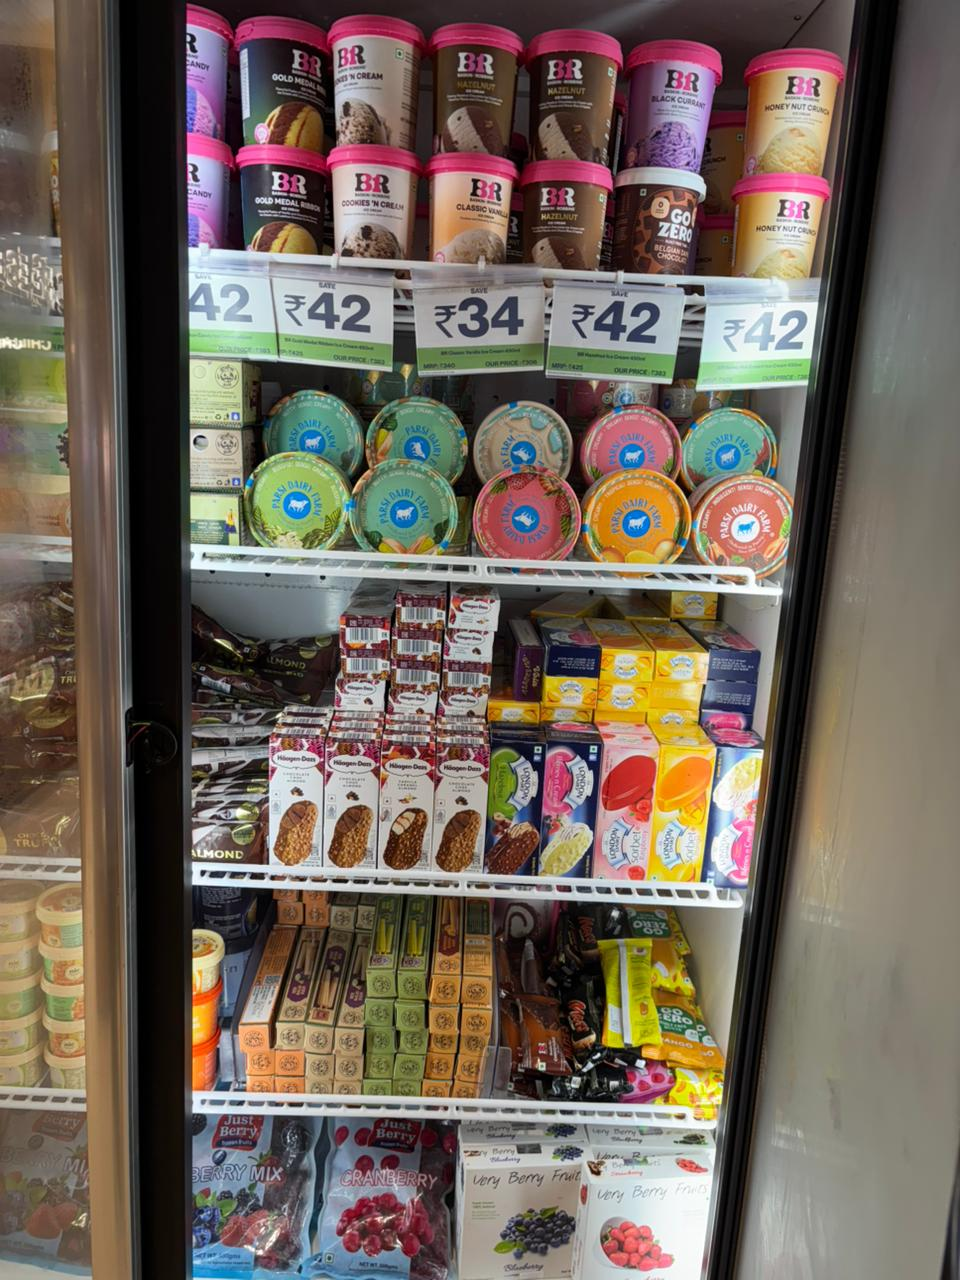Haagen-Dazs IceCream Bars: (415, 739, 499, 879), (366, 734, 442, 879), (320, 730, 385, 874), (263, 728, 327, 869), (442, 636, 499, 678), (447, 594, 504, 635), (394, 596, 450, 632), (340, 616, 392, 654), (438, 689, 501, 720), (332, 681, 390, 713), (381, 686, 440, 712)
